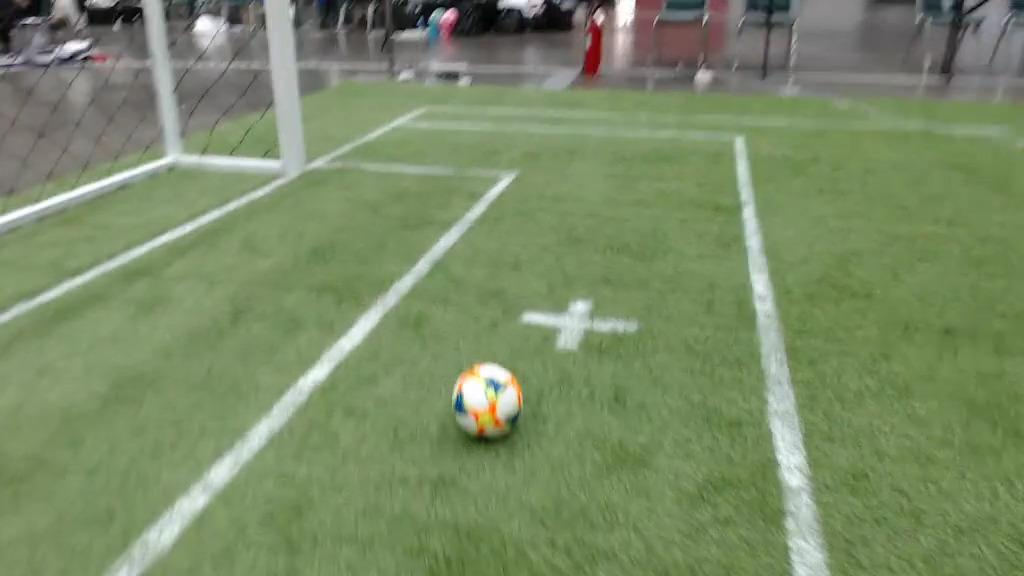ball: (450, 362, 523, 442)
